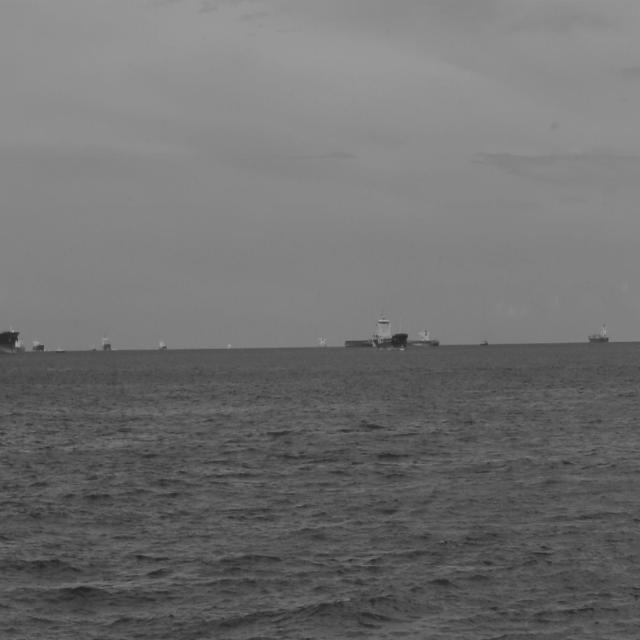ship: (338, 317, 402, 355), (342, 316, 408, 351), (403, 329, 438, 346), (588, 324, 612, 346), (592, 320, 614, 344), (0, 325, 18, 354), (27, 336, 45, 356), (99, 334, 112, 354), (12, 337, 24, 355), (156, 336, 166, 352)
